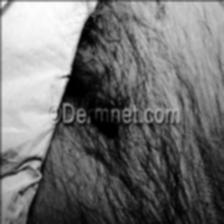Potentially Malignant Skin Tumors: (86, 94, 119, 108)
